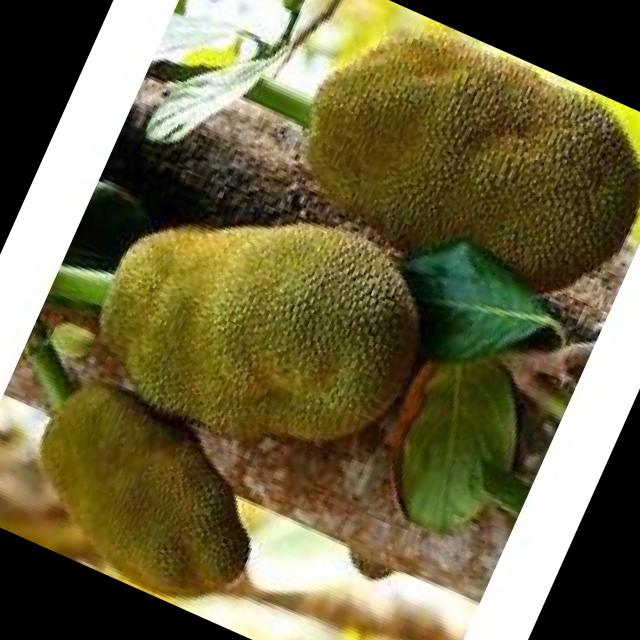Fruit: (44, 119, 490, 531), (244, 0, 640, 359), (0, 348, 318, 634)
